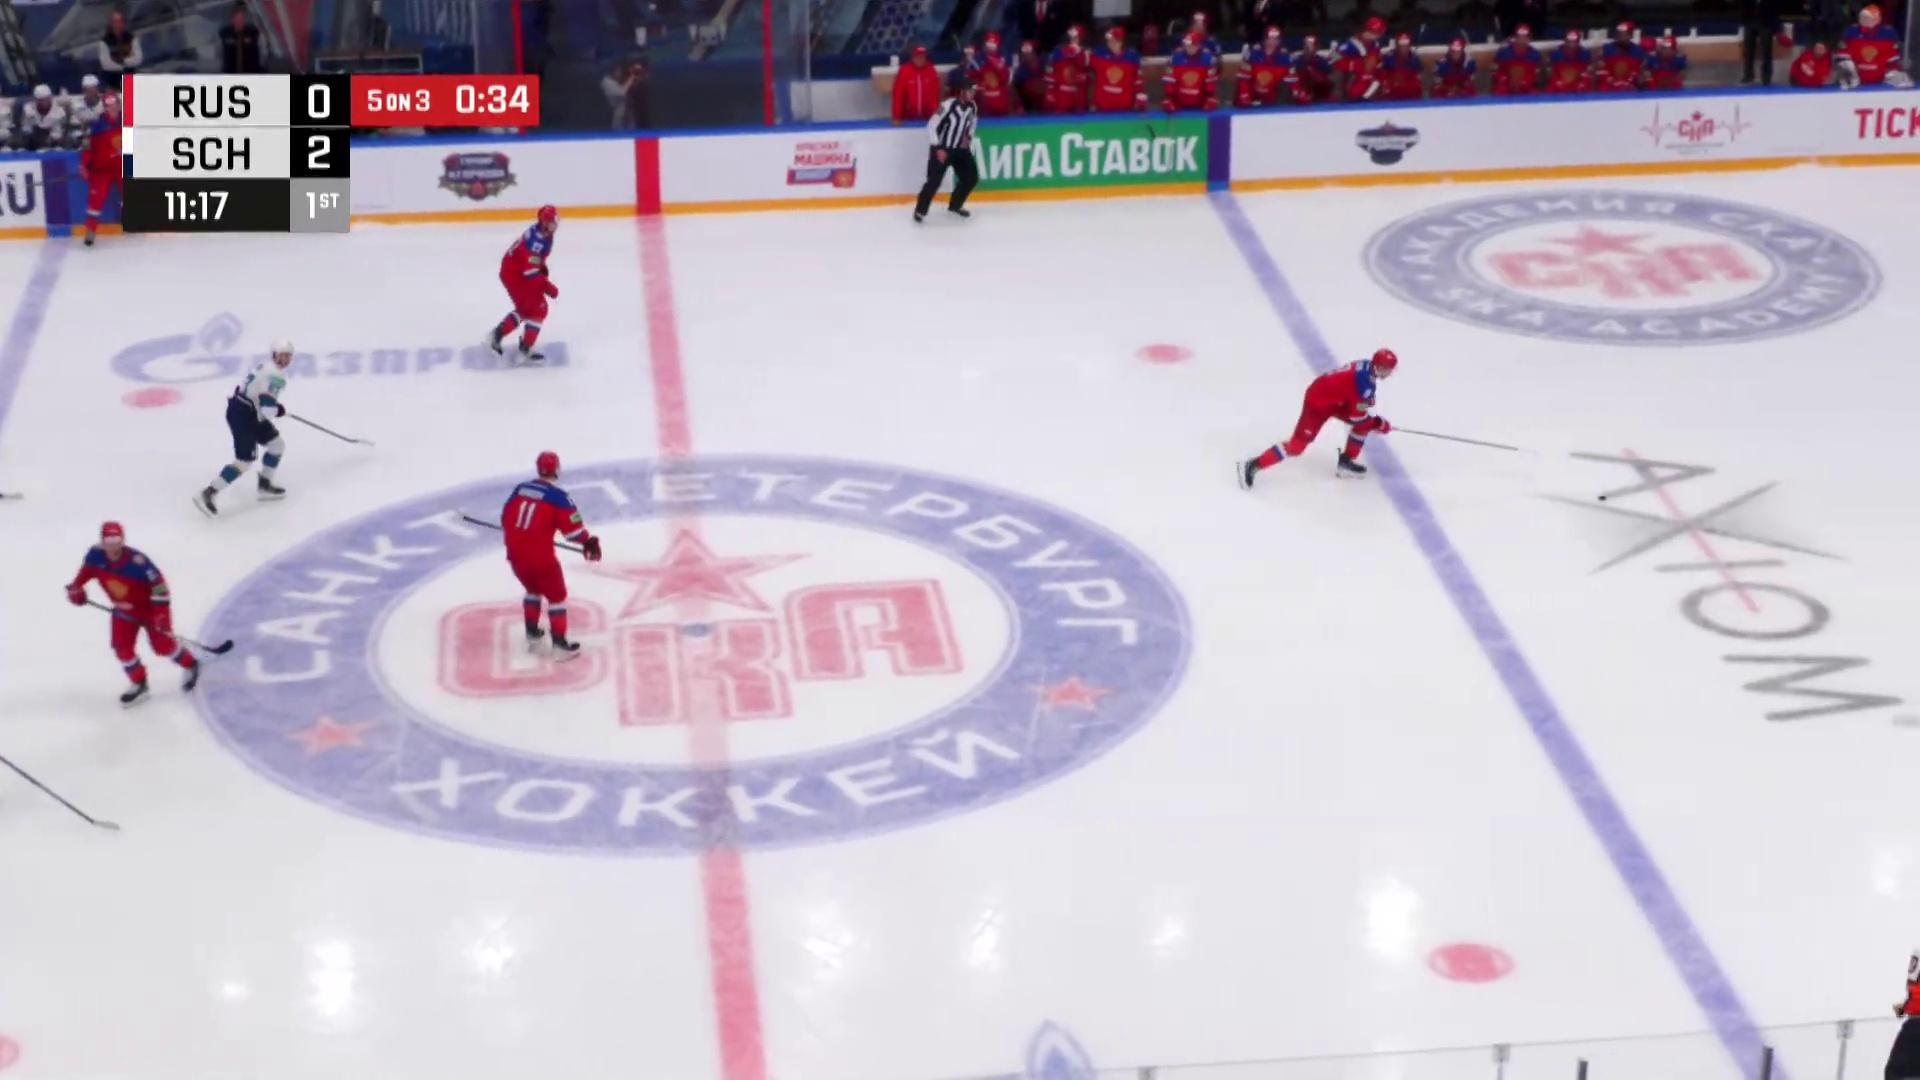ball: (1597, 496, 1607, 501)
